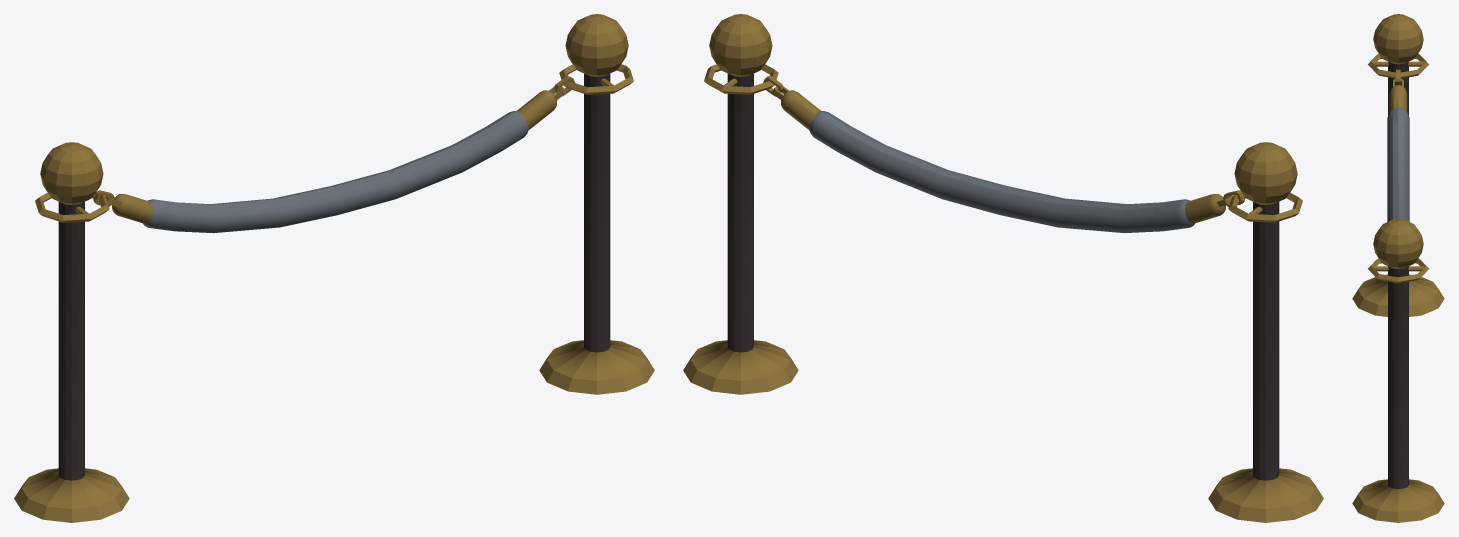
File: WM_RopeFenceFull.fbx
The picture shows the model from 3 angles, left to right: view 1: azimuth 30°, elevation 25°; view 2: azimuth 150°, elevation 25°; view 3: azimuth 270°, elevation 25°; orthographic projection. The views are drawn at different scales.
Parts seen in each view (by area): view 1: polySurface121; view 2: polySurface121; view 3: polySurface121.
Part boxes in pixels (x1,y1,x2,y2): polySurface121: [14, 14, 654, 522]; polySurface121: [683, 14, 1323, 522]; polySurface121: [1352, 14, 1444, 522].
Bounding box in the file's own units: 10.54 × 5.69 × 1.69.
